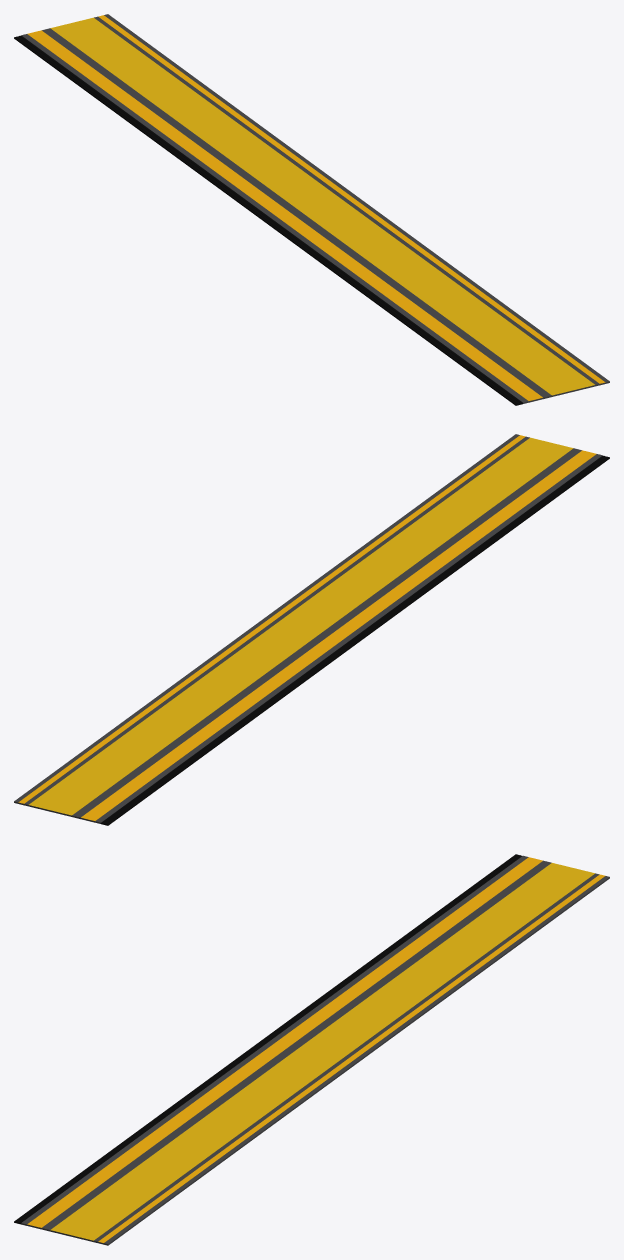
The model's file is gteki_platform_edge_l6000_gap.glb.
3 renders of one model, top to bottom at view 1: azimuth 30°, elevation 25°; view 2: azimuth 150°, elevation 25°; view 3: azimuth 330°, elevation 25°, orthographic.
Parts seen in each view (by area): view 1: VIS_body; view 2: VIS_body; view 3: VIS_body.
Boxes of the visible parts, x1,y1,x2,y2 form: VIS_body: (14,14,609,405); VIS_body: (14,434,609,825); VIS_body: (14,854,609,1245).
Size of the model in its own units: 0.65 by 0.01 by 6.
Materials: 1 (1 with a texture image).
